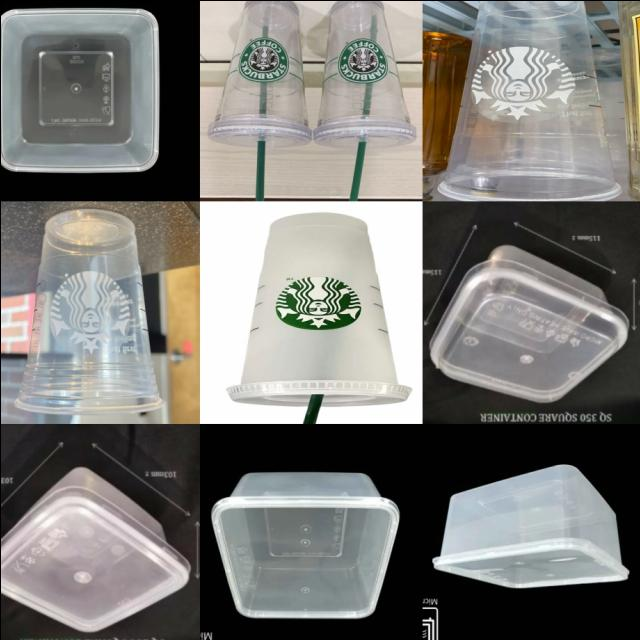plastik: (438, 0, 619, 199), (225, 213, 411, 406), (0, 467, 189, 631), (430, 246, 627, 402), (14, 209, 160, 413), (211, 471, 398, 617), (0, 8, 156, 171), (432, 464, 627, 587), (312, 0, 416, 199), (207, 0, 310, 147)
